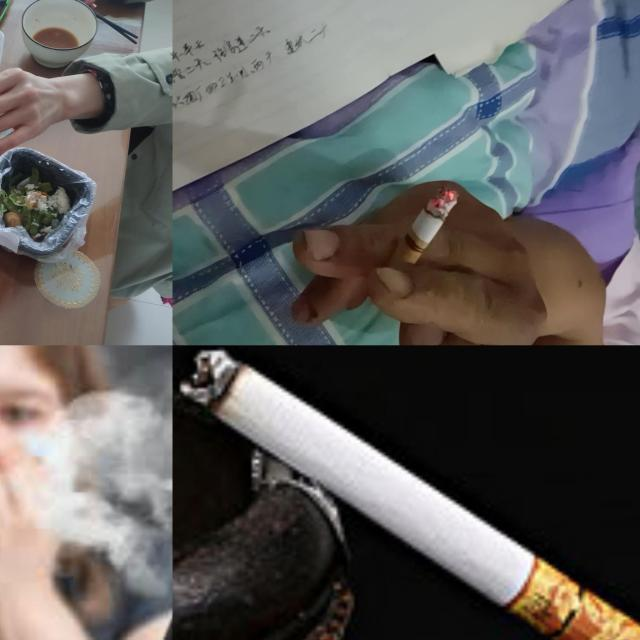smoking: (176, 347, 640, 640), (370, 186, 458, 310)
